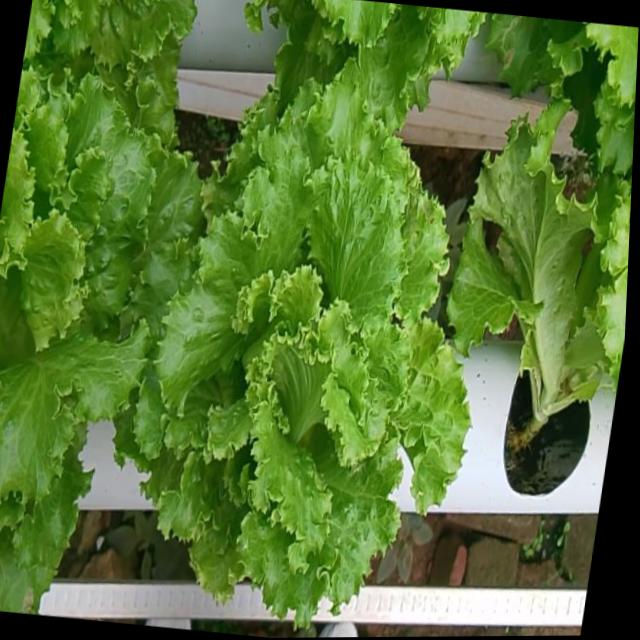Mature: (134, 79, 472, 620), (0, 75, 201, 512)
